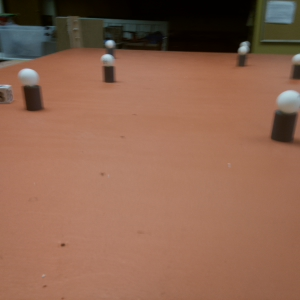obstacle: (270, 90, 297, 144), (17, 67, 47, 113), (100, 54, 116, 83), (236, 41, 252, 63), (290, 53, 300, 78), (103, 40, 118, 54)
